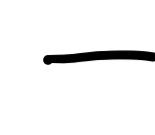minus: (40, 49, 155, 69)
